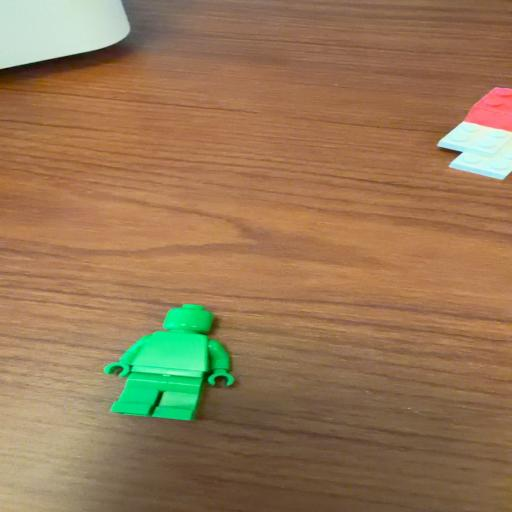UnoQ-minifig-detector: (104, 304, 234, 420)
